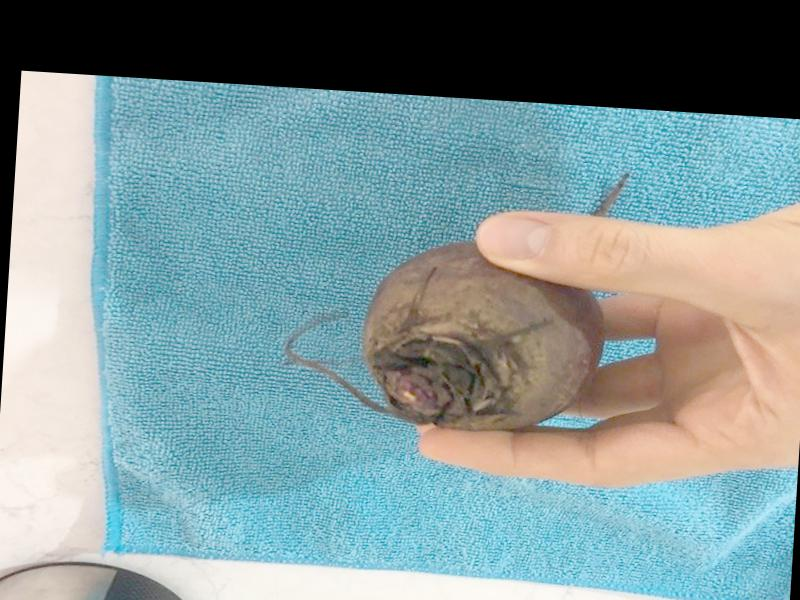Beet: (283, 153, 628, 437)
